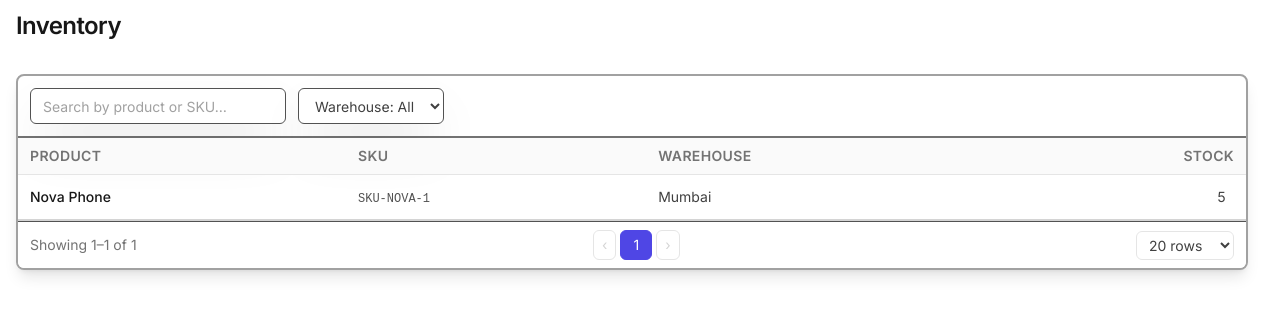
Test: InventoryPage › shows NEGATIVE_STOCK_REJECTED inline without navigating away
Click the button "5" at (1221, 197), box [1209,183,1234,211]
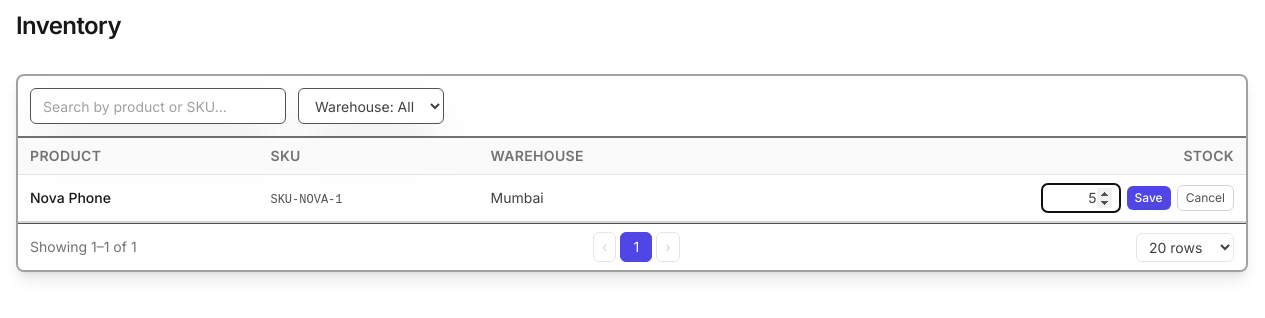
Replace the text in the number field named "Stock for" with "-1" at (1080, 198), box [1040,183,1120,213]
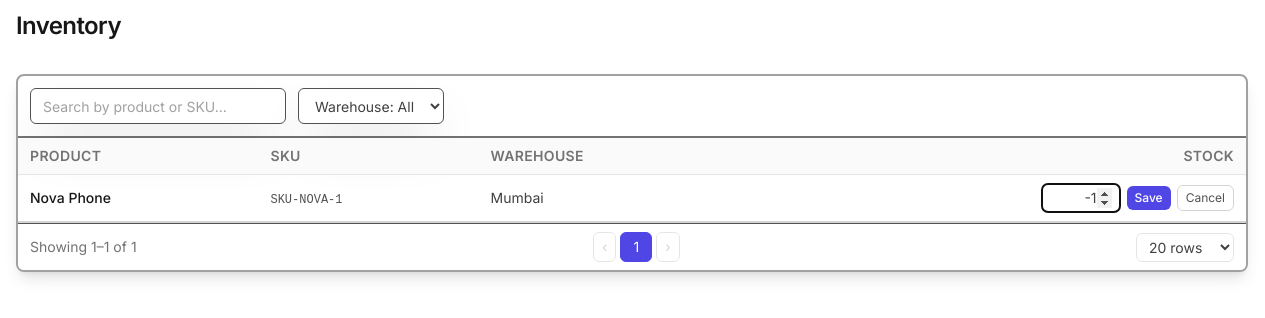
Click the button "Save" at (1149, 198), box [1126,186,1171,210]
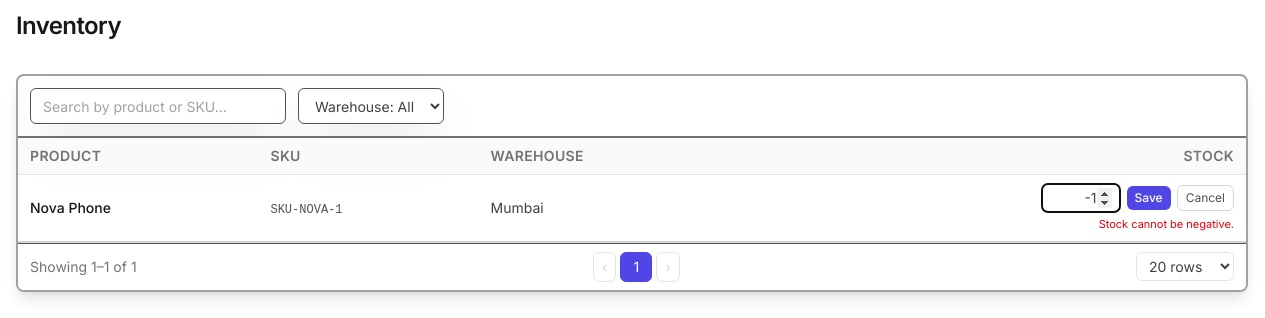
Expected: the message reads "Stock cannot be negative.", [1099,217,1234,231]
